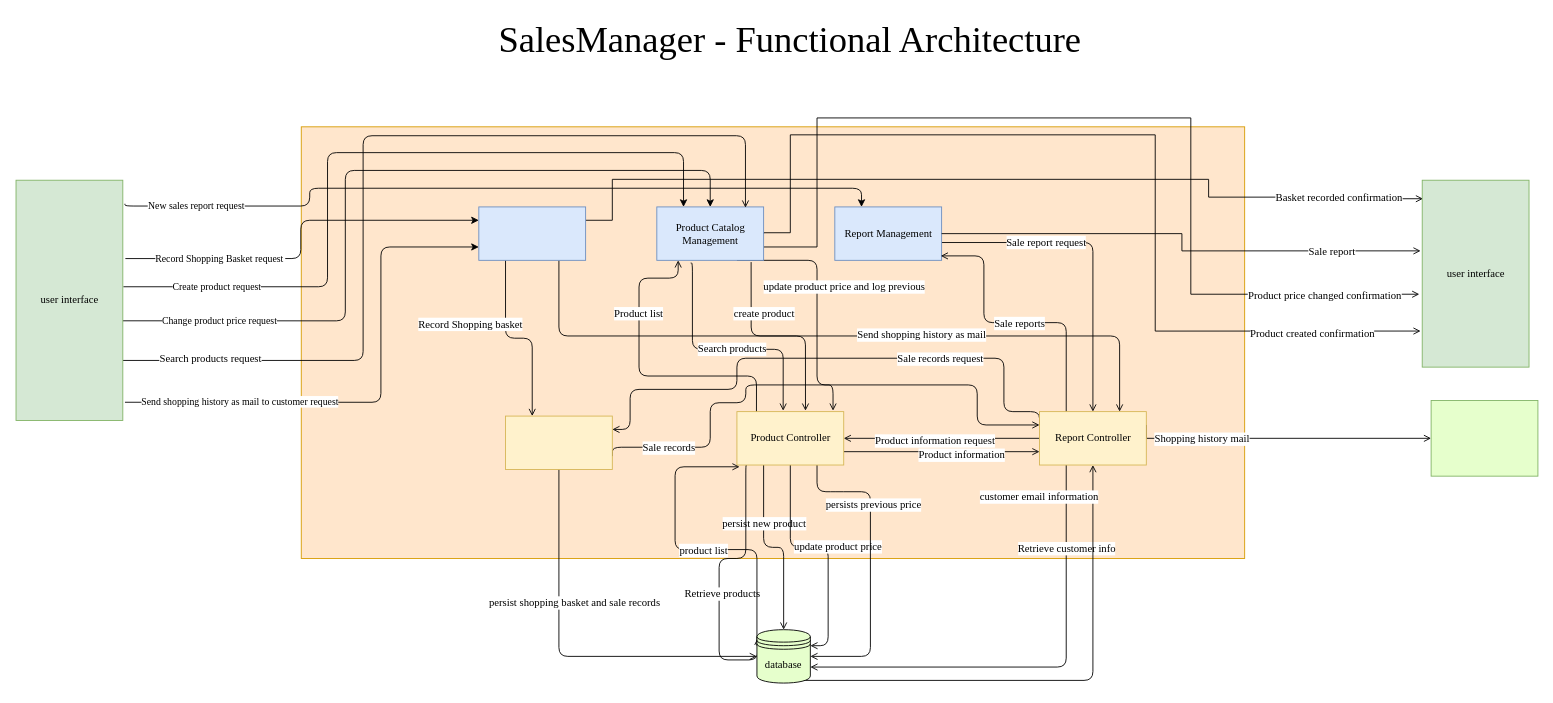
This 1553x703 diagram has some shape labels left out. Each missing label, with the centre of its shape:
customer email: (x=1484, y=438)
Sales Controller: (x=558, y=442)
Sales Managment: (x=532, y=233)
